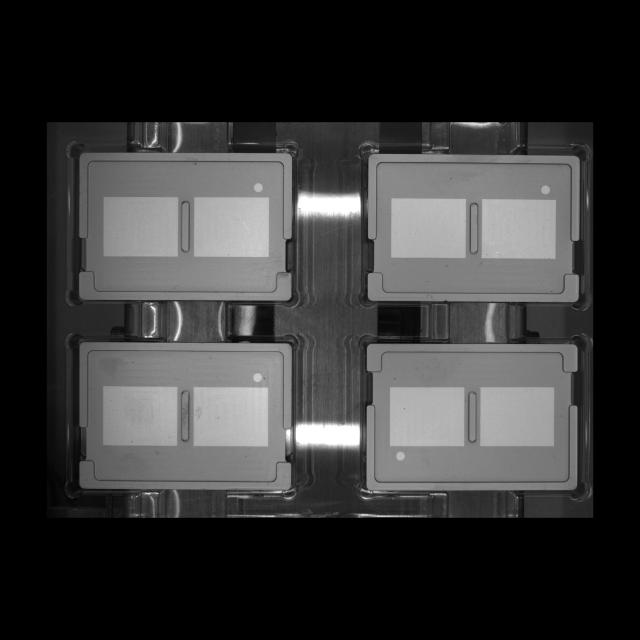product: (66, 331, 299, 500), (66, 141, 300, 307), (357, 333, 588, 501), (356, 141, 587, 308)
